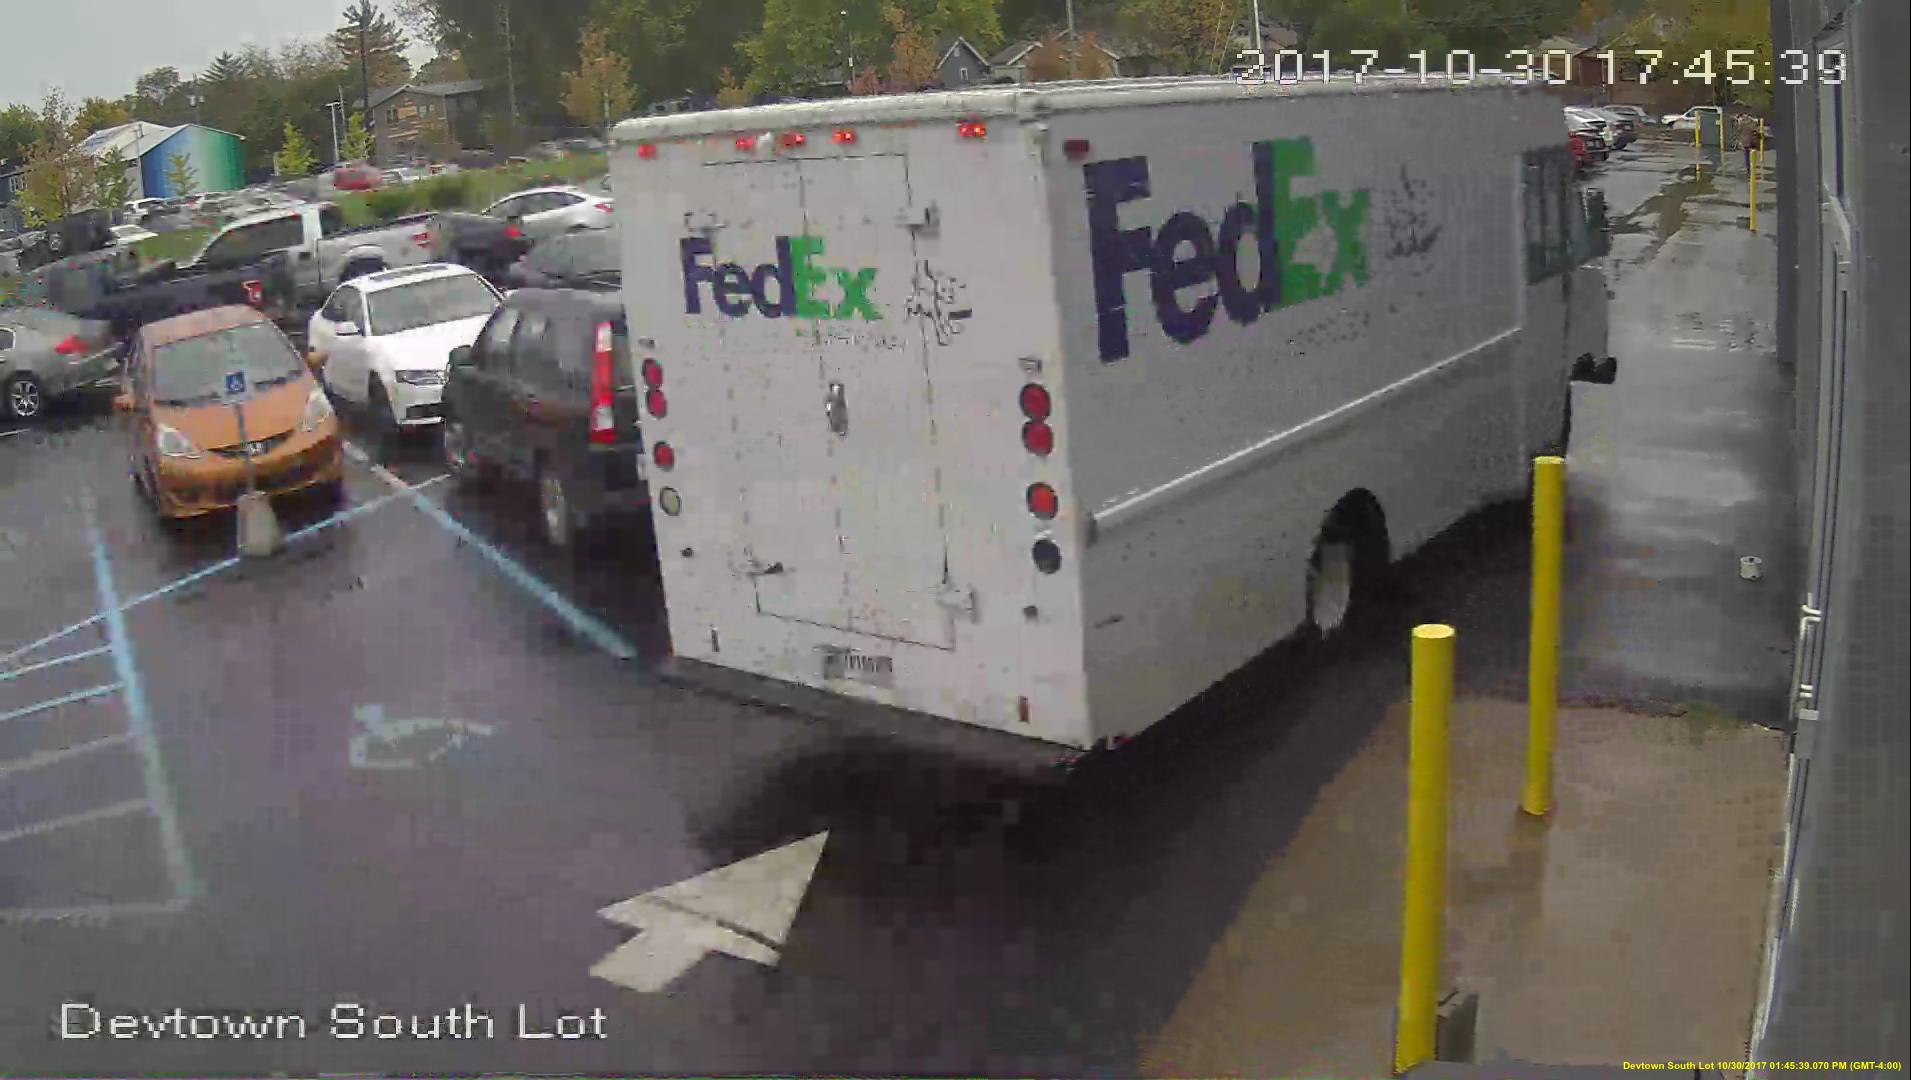fedex_truck: (660, 79, 1612, 779)
